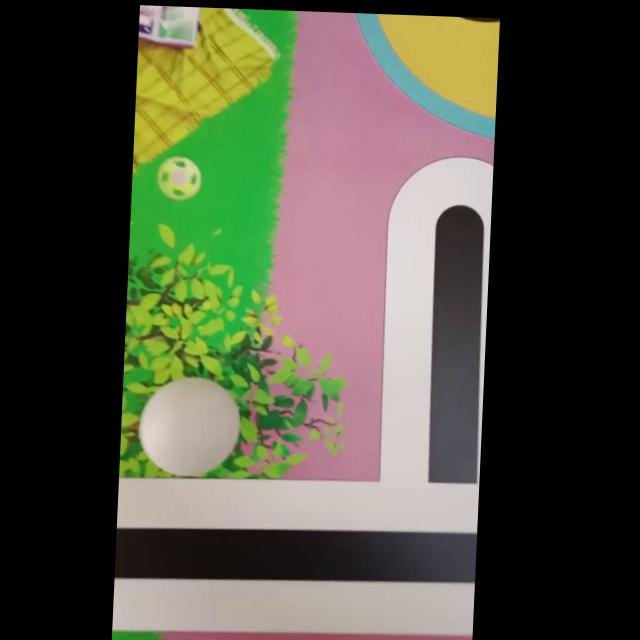white ball: (136, 373, 243, 478)
